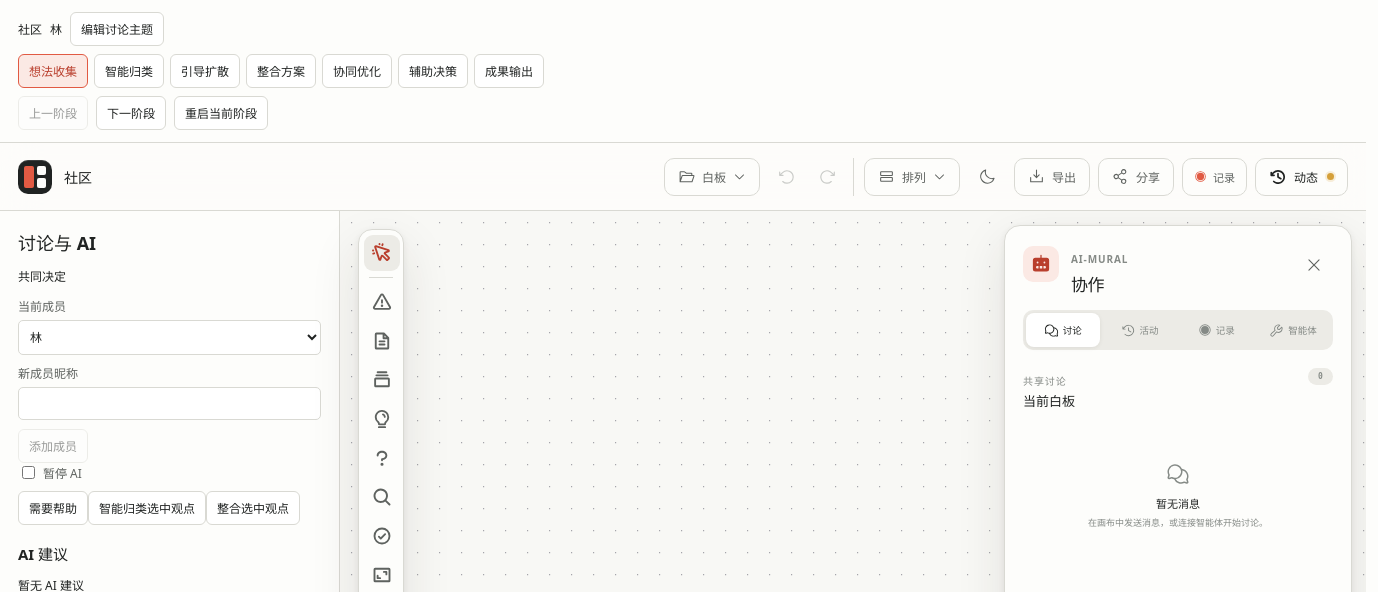
Test: 稍后处理后只显示一项主要建议，恢复处理无需请求模型
Click the button "需要帮助" at (53, 508), box [18,491,88,525]
(page scrolled)
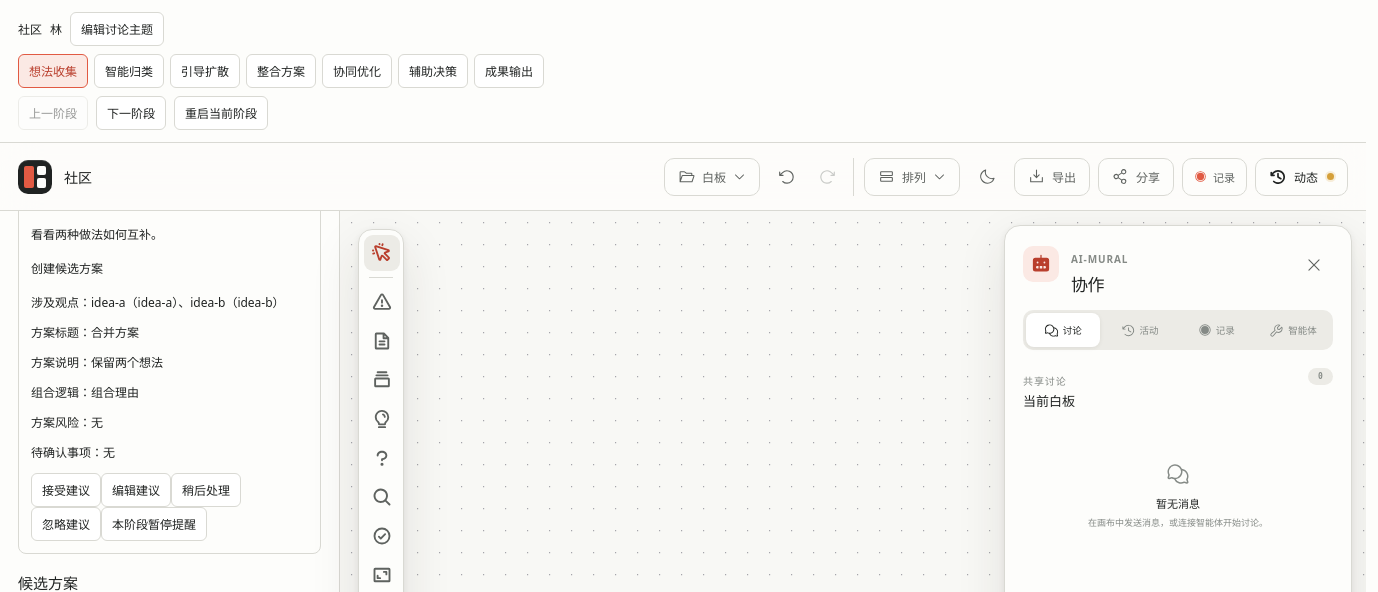
Expected: the text "看看两种做法如何互补。" is shown, [31,226,163,243]
Click the button "稍后处理" at (206, 490), box [171,473,241,507]
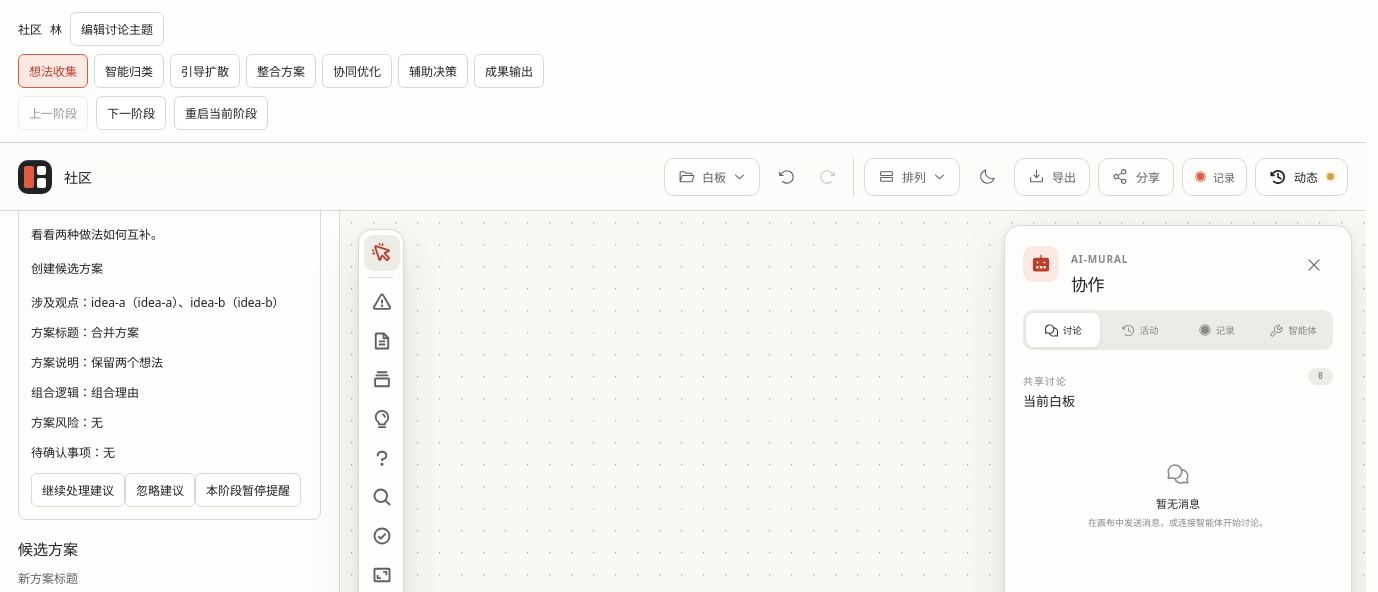
Expected: the button "接受建议" is gone
Click the button "继续处理建议" at (78, 490), box [31,473,125,507]
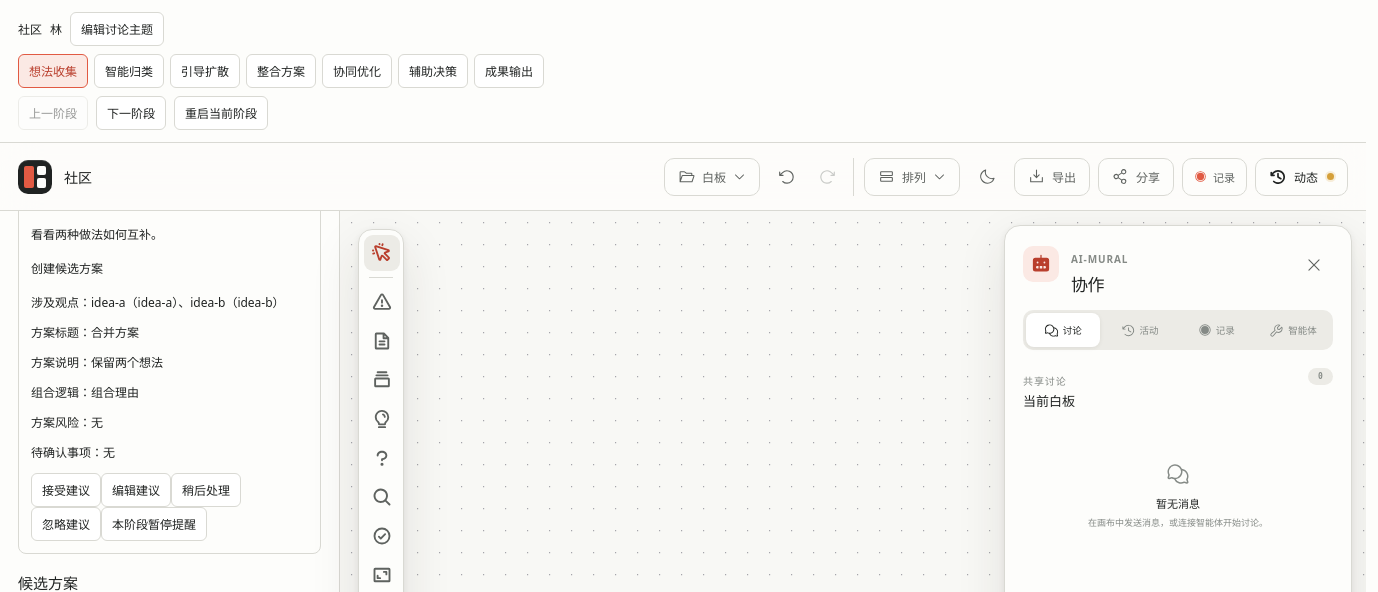
Expected: the button "接受建议" is shown, [31,473,101,507]
